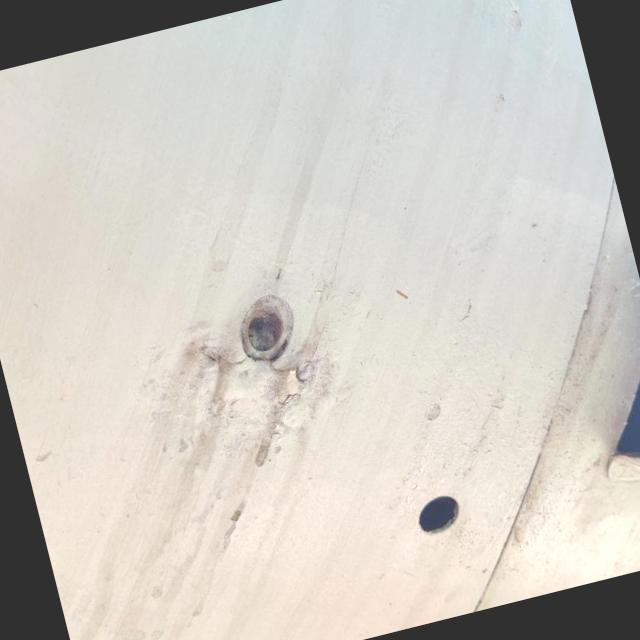crack: (259, 346, 331, 418)
